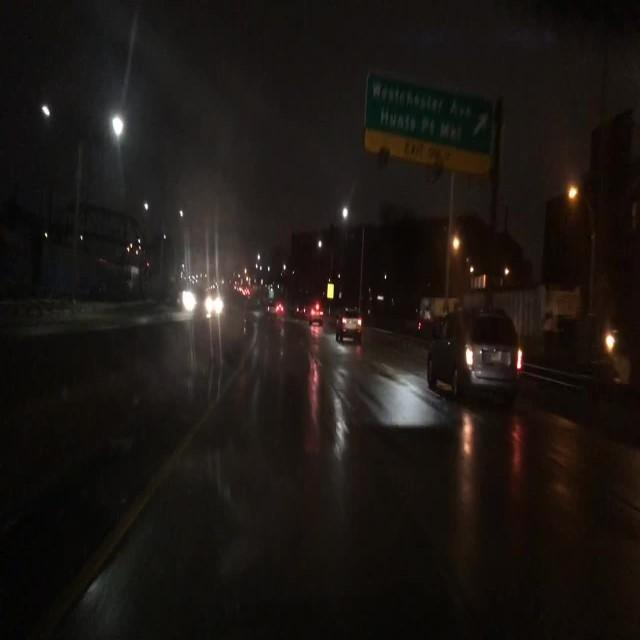normal: (395, 264, 550, 427)
